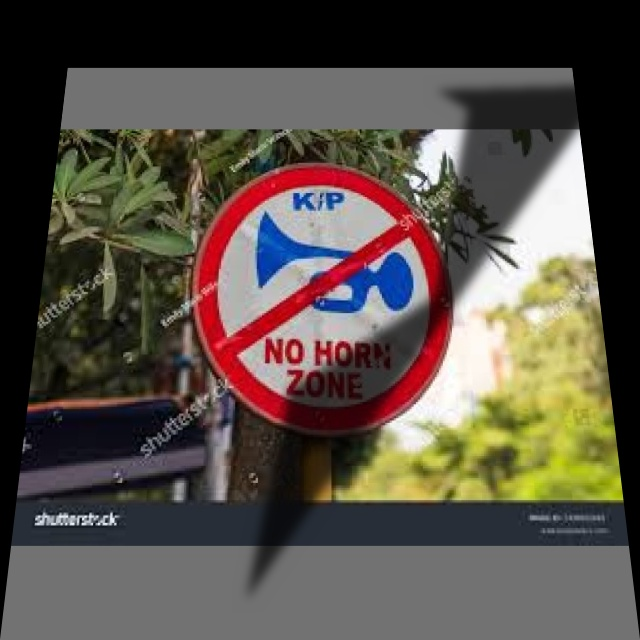Horn_Prohibited: (193, 164, 454, 427)
